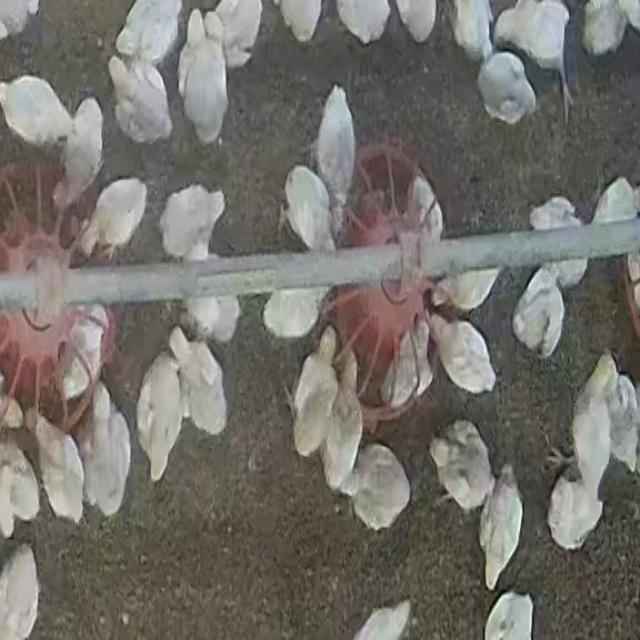chicken: (178, 11, 230, 148), (80, 384, 132, 518), (169, 326, 229, 441), (290, 332, 344, 459), (102, 54, 178, 141), (274, 162, 344, 254), (136, 352, 185, 483), (78, 172, 149, 262), (428, 308, 503, 392), (321, 348, 365, 491), (34, 408, 88, 524), (0, 74, 76, 156), (428, 420, 494, 514), (343, 442, 411, 533), (158, 178, 230, 260), (57, 299, 111, 407), (314, 82, 357, 216), (478, 465, 524, 588), (375, 317, 433, 406), (60, 94, 104, 206), (512, 269, 566, 359), (114, 1, 184, 70), (476, 50, 538, 126), (208, 0, 263, 70), (261, 287, 326, 341), (590, 178, 636, 227)
